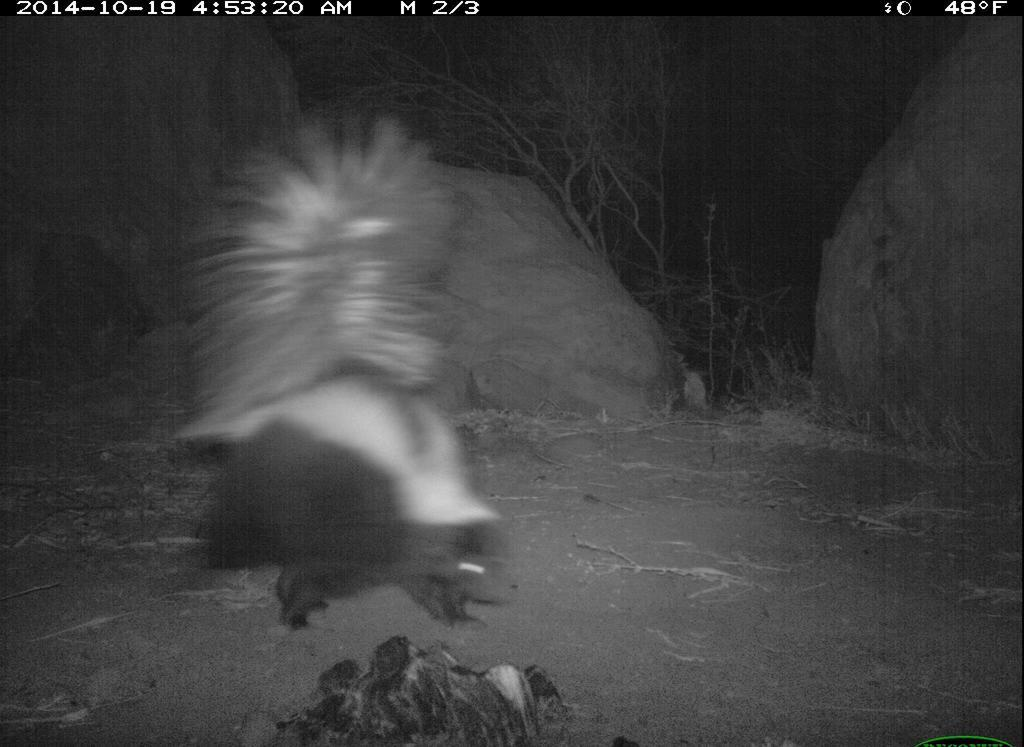skunk: (172, 107, 518, 637)
